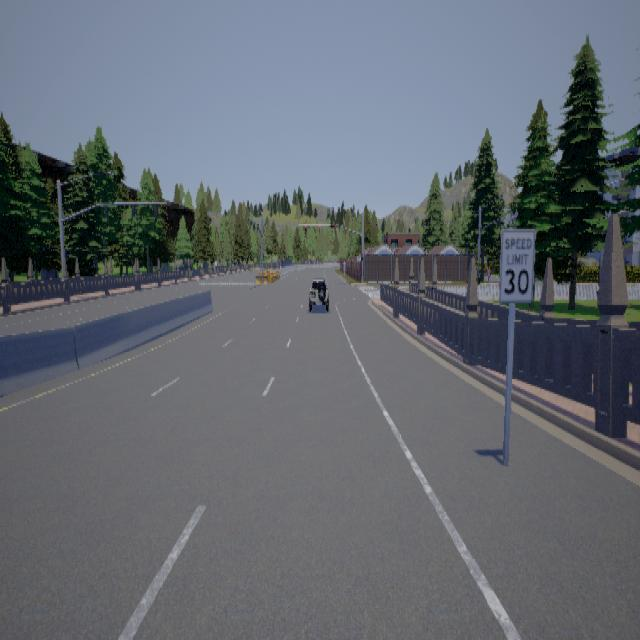red_light: (318, 226, 320, 234), (304, 225, 306, 233)
traffic_sign: (498, 228, 535, 302)
vehicle: (308, 274, 328, 310)
